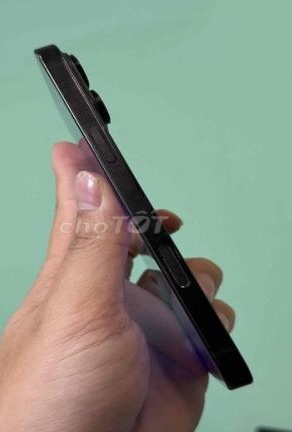scratch: (62, 72, 78, 99), (178, 277, 196, 295)
